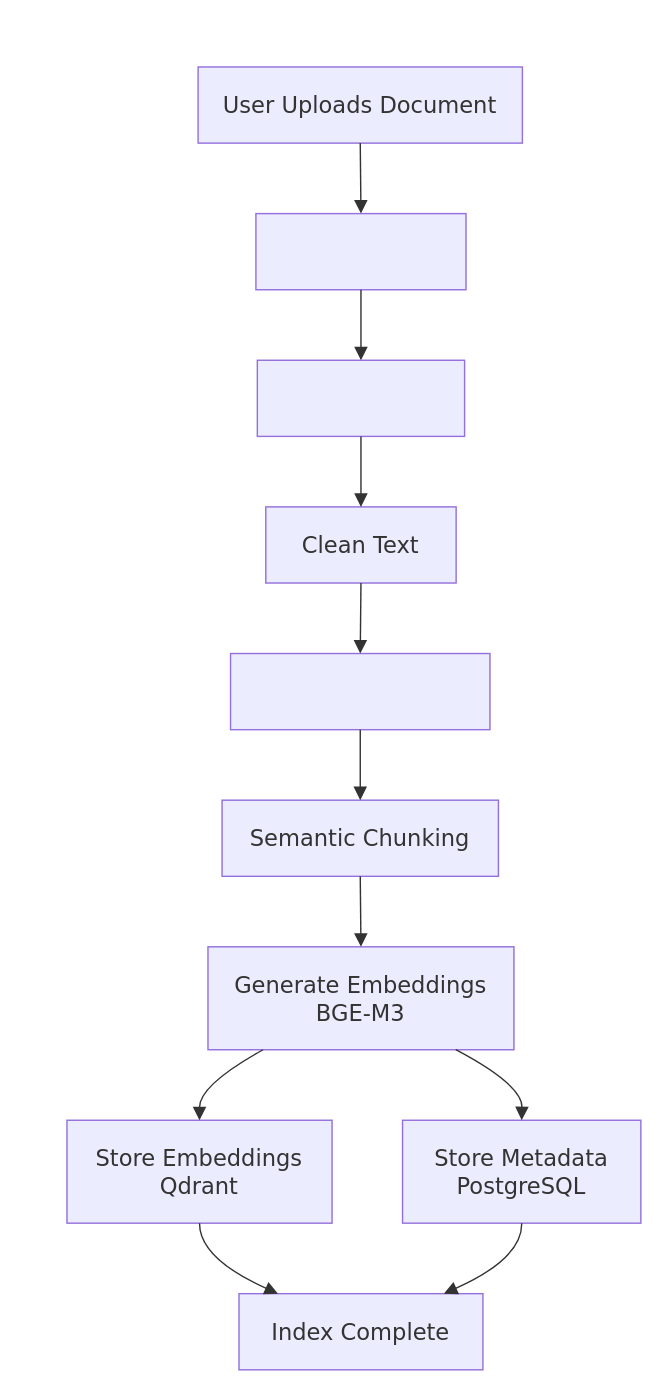
Image size: 666x1394. Some labels were removed from this diagram. Each missing label, with the box of its shape:
Extract Metadata: (229, 652, 490, 730)
Extract Text: (256, 359, 465, 436)
Validate File: (255, 212, 466, 290)
